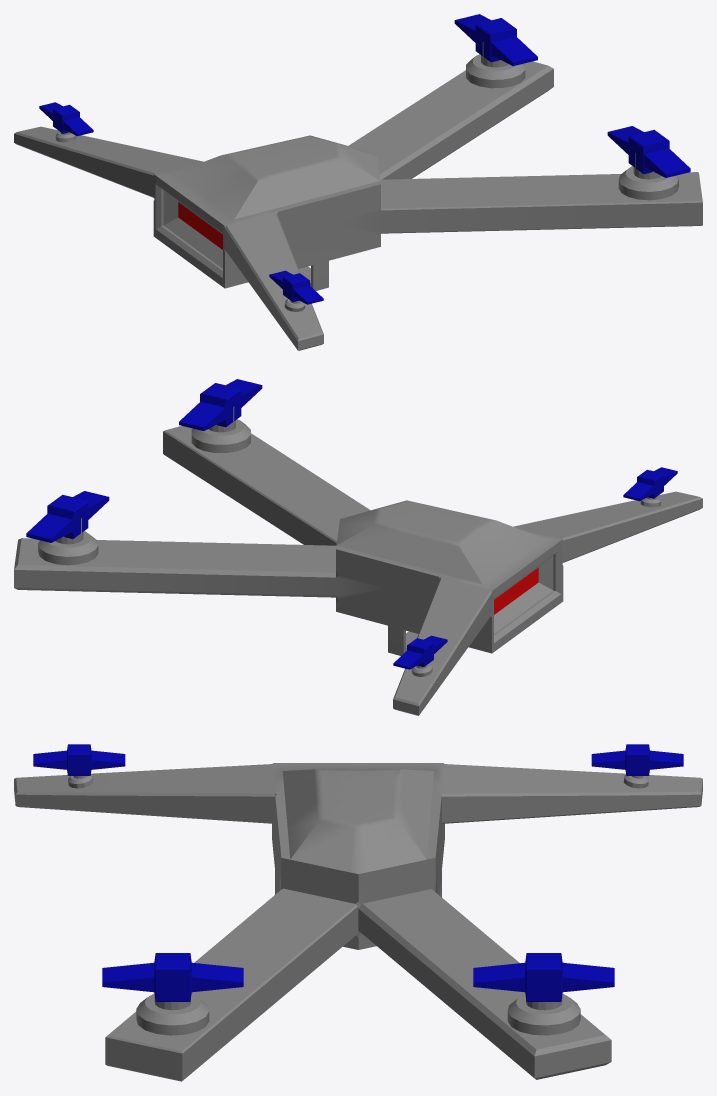
Rendered from drone.fbx.
3 views of the same model, one above another, from view 1: azimuth 30°, elevation 25°; view 2: azimuth 150°, elevation 25°; view 3: azimuth 270°, elevation 25° (orthographic). The views are drawn at different scales.
Visible parts, largest first — view 1: polySurface3; view 2: polySurface3; view 3: polySurface3.
Part boxes in pixels (box(x1,y1,x2,y2)): polySurface3: box(14, 14, 702, 350); polySurface3: box(14, 379, 702, 715); polySurface3: box(14, 744, 702, 1081).
Bounding box in the file's own units: 10.31 × 2.38 × 10.77.
